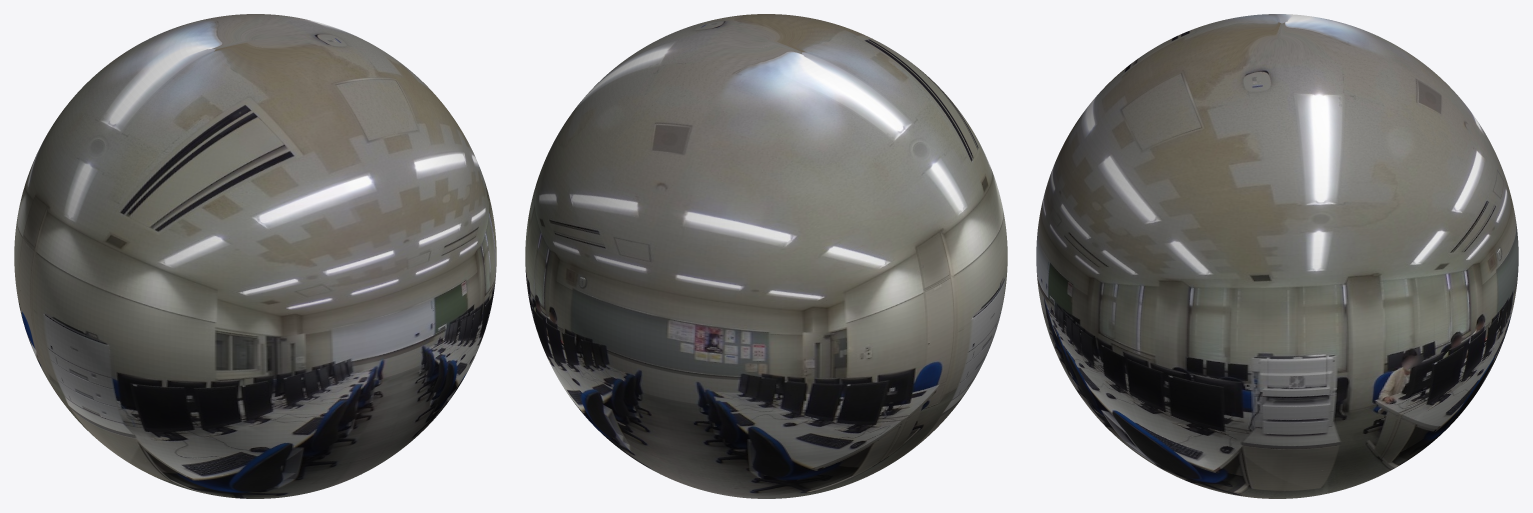
File: pasokonnsitu-1.fbx
The picture shows the model from 3 angles, left to right: view 1: azimuth 30°, elevation 25°; view 2: azimuth 150°, elevation 25°; view 3: azimuth 270°, elevation 25°; orthographic projection.
Visible parts, largest first — view 1: 球; view 2: 球; view 3: 球.
Boxes of the visible parts, left/top/right/bottom form: 球: left=14, top=14, right=496, bottom=498; 球: left=525, top=14, right=1007, bottom=498; 球: left=1036, top=14, right=1518, bottom=498.
Size of the model in its own units: 197 by 196 by 197.
1 material, 1 textured.
